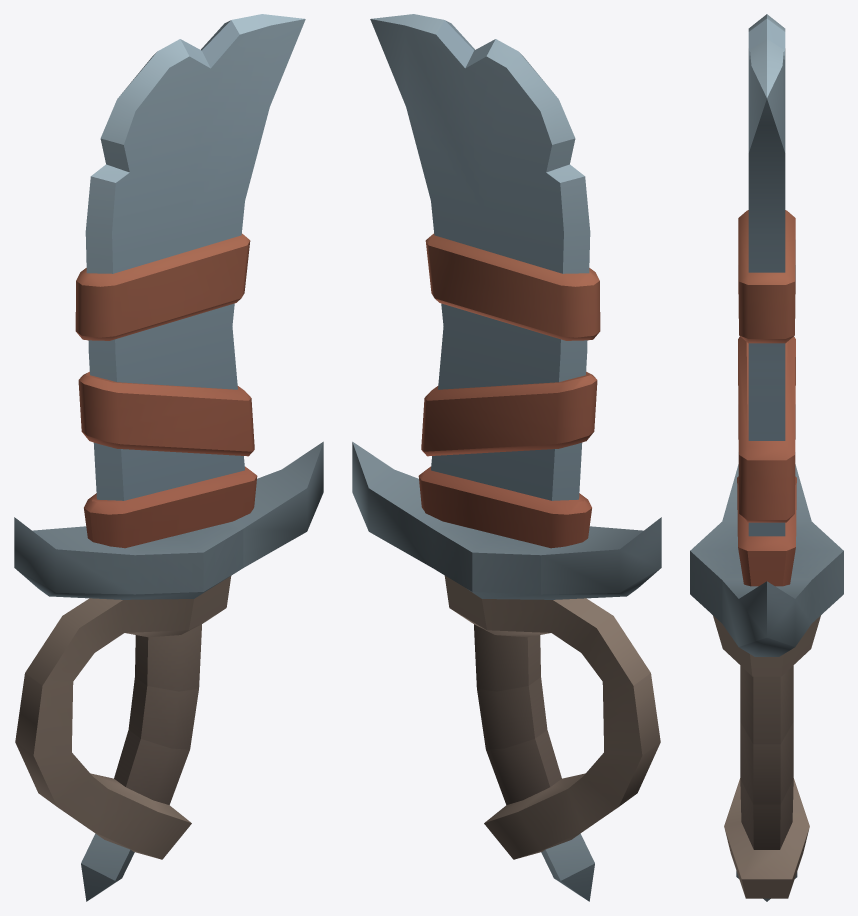
Rendered from Skeleton_Blade.fbx.
3 views of the same model, side by side, from view 1: azimuth 30°, elevation 25°; view 2: azimuth 150°, elevation 25°; view 3: azimuth 270°, elevation 25° (orthographic). The views are drawn at different scales.
Parts seen in each view (by area): view 1: Skeleton_Blade; view 2: Skeleton_Blade; view 3: Skeleton_Blade.
Boxes of the visible parts, x1=… form: Skeleton_Blade: x1=14, y1=14, x2=323, y2=901; Skeleton_Blade: x1=352, y1=14, x2=661, y2=901; Skeleton_Blade: x1=690, y1=14, x2=843, y2=901.
Bounding box in the file's own units: 0.5727 × 1.5 × 0.2223.
